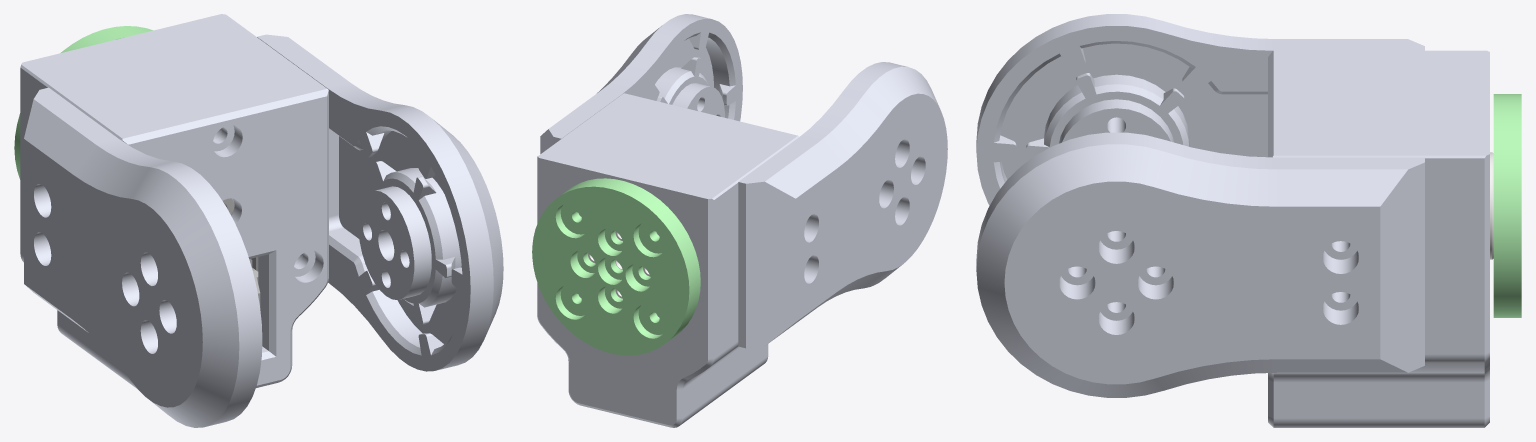
3 views of the same model, side by side, from view 1: azimuth 30°, elevation 25°; view 2: azimuth 150°, elevation 25°; view 3: azimuth 270°, elevation 25° (orthographic). The views are drawn at different scales.
Parts seen in each view (by area): view 1: Body_1 (×5); view 2: Body_1 (×5); view 3: Body_1 (×5).
Boxes of the visible parts, box(x1,y1,x2,y2) form: Body_1 (×5): box(14, 14, 503, 427); Body_1 (×5): box(532, 14, 947, 427); Body_1 (×5): box(976, 14, 1521, 427).
Size of the model in its own units: 6.5e-05 by 6.29e-05 by 9.72e-05.
